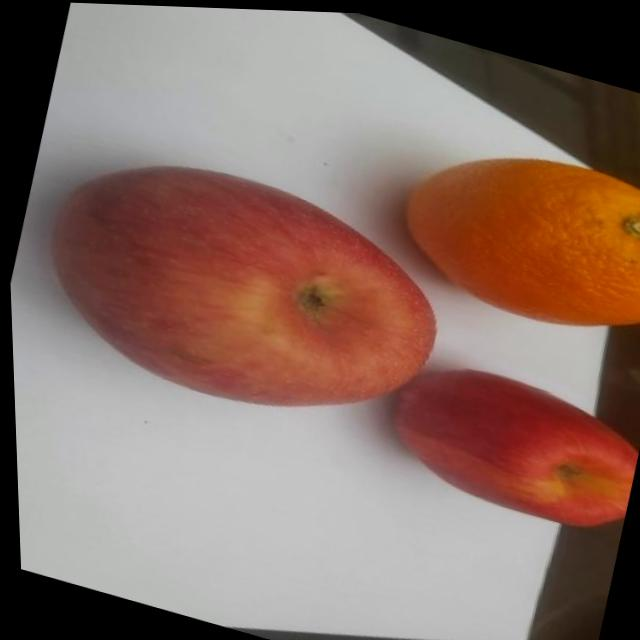Apple: (15, 126, 458, 450), (369, 345, 640, 543)
Orange: (379, 109, 640, 348)
